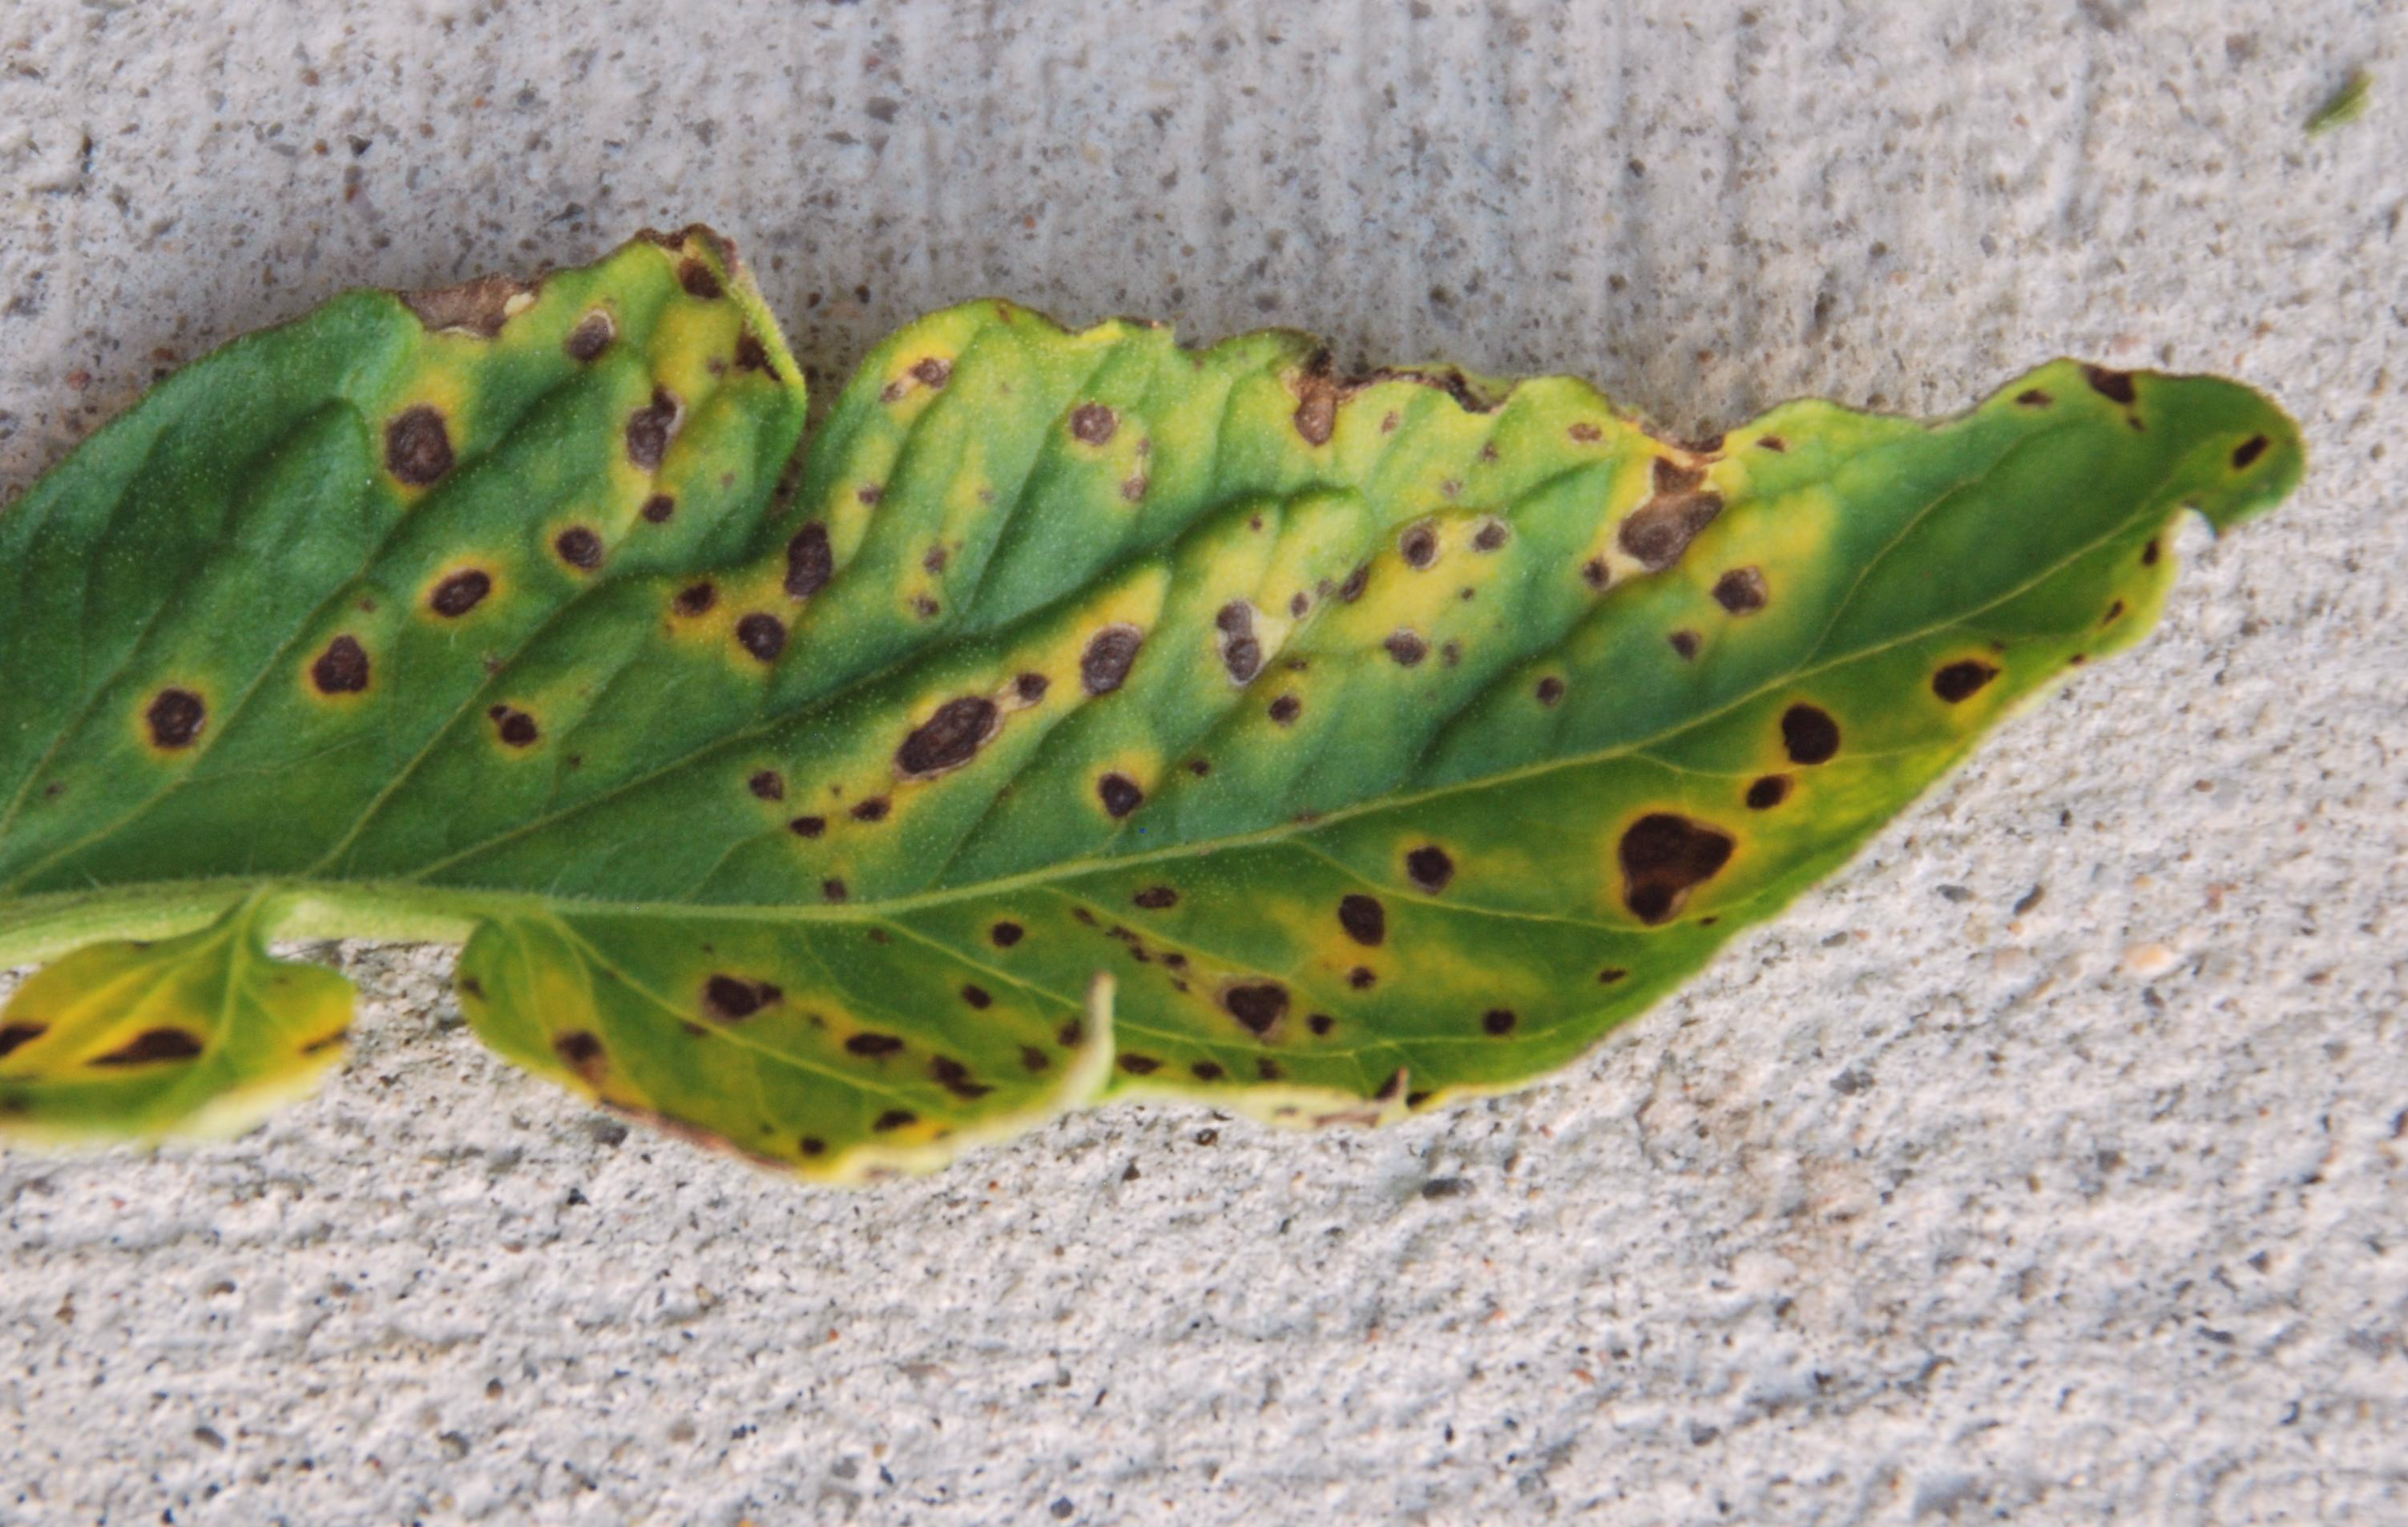Tomato Early blight leaf: (0, 242, 2334, 1197)
